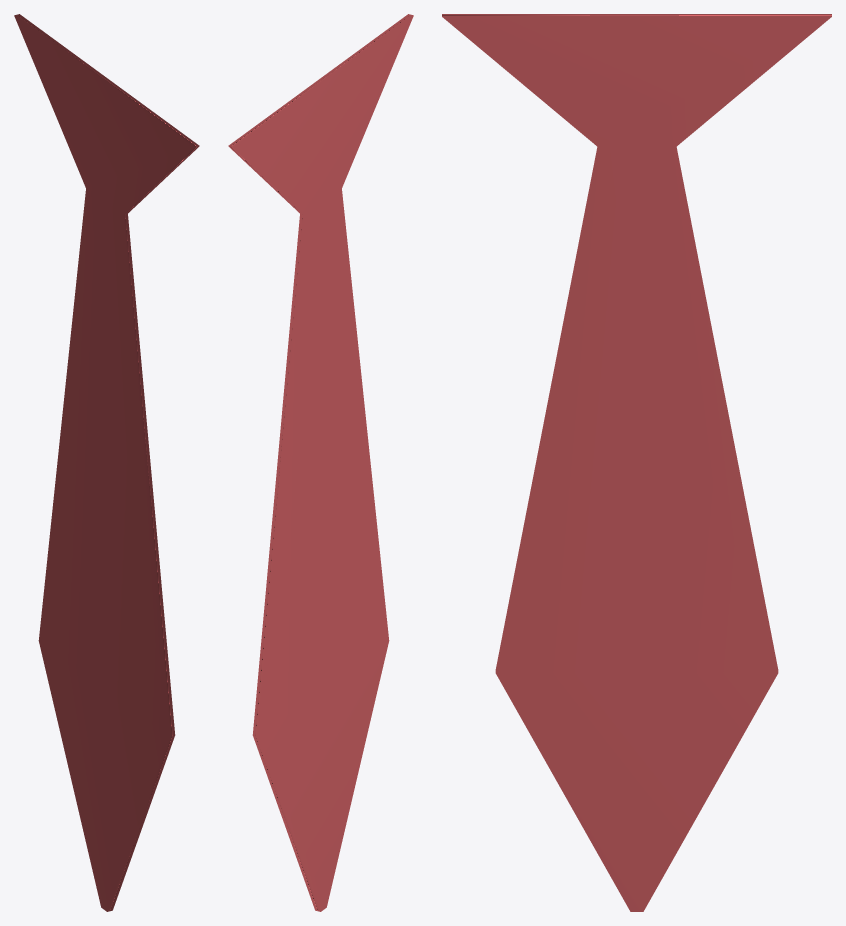
Rendered from tycoon_tie.fbx.
3 views of the same model, side by side, from view 1: azimuth 30°, elevation 25°; view 2: azimuth 150°, elevation 25°; view 3: azimuth 270°, elevation 25° (orthographic). The views are drawn at different scales.
Visible parts, largest first — view 1: tie; view 2: tie; view 3: tie.
Boxes of the visible parts, x1,y1,x2,y2 form: tie: (14, 14, 199, 911); tie: (228, 14, 413, 911); tie: (442, 14, 831, 911).
Size of the model in its own units: 0.559 by 78.74 by 31.07.
